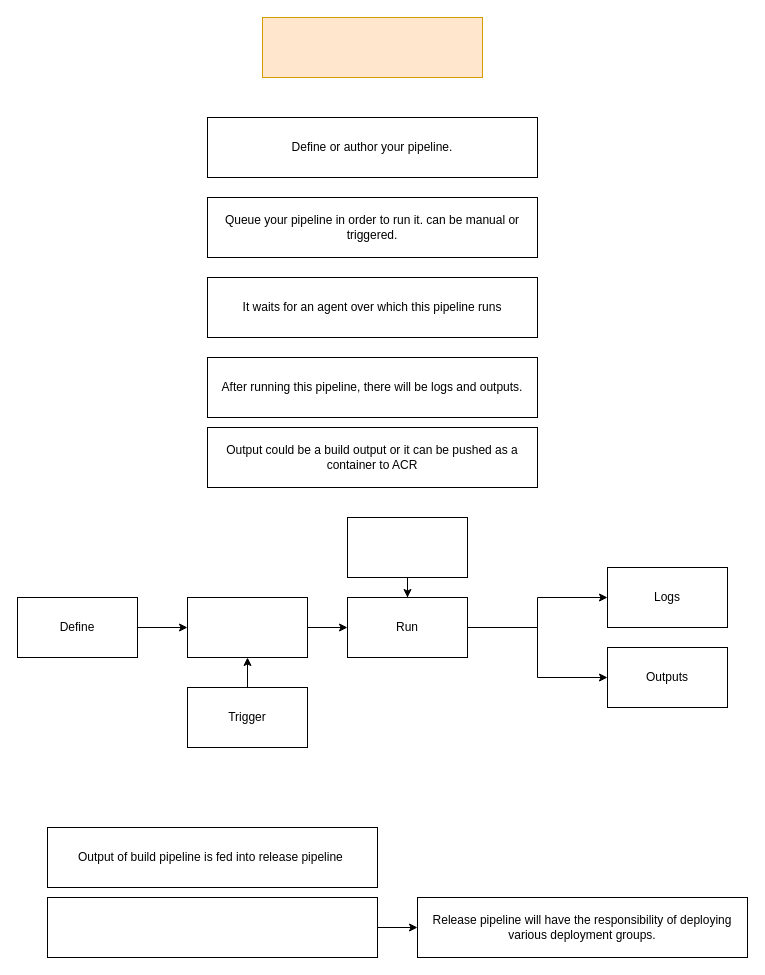
This 765x975 diagram has some shape labels left out. The centre of each missing label's shape, as x and y in pixels:
Agent: (407,547)
How pipelines work?: (372,47)
Queue: (247,627)
Release pipeline use the success of build pipeline as a trigger.: (212,927)
